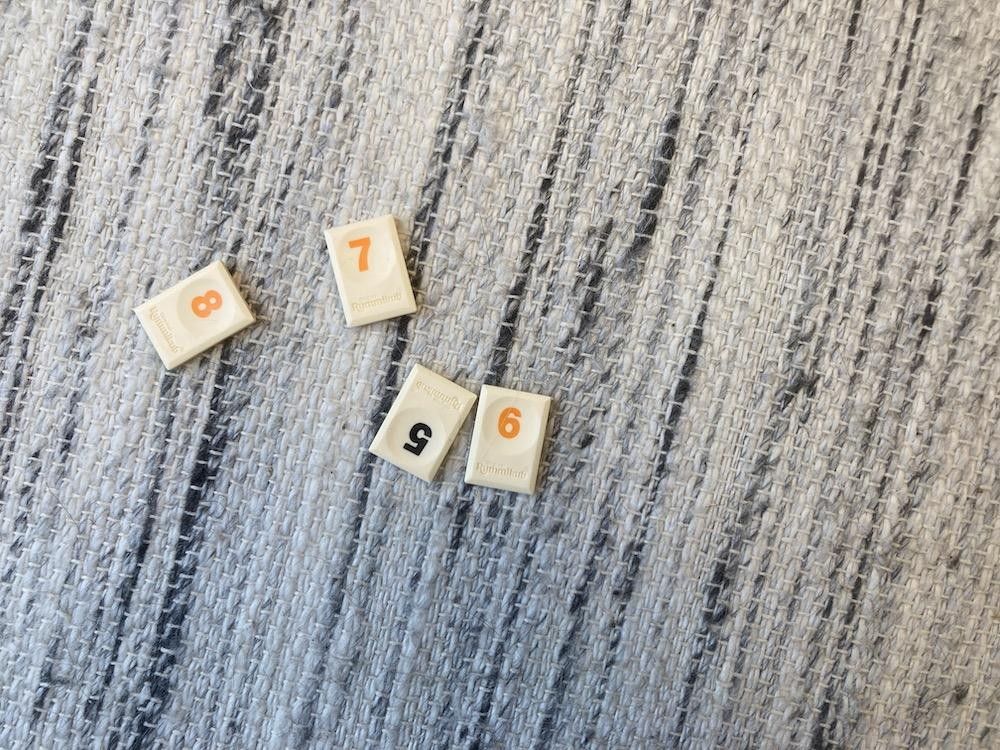orange_6: (465, 385, 551, 494)
orange_7: (324, 215, 416, 326)
orange_8: (369, 363, 477, 482), (135, 262, 254, 369)
